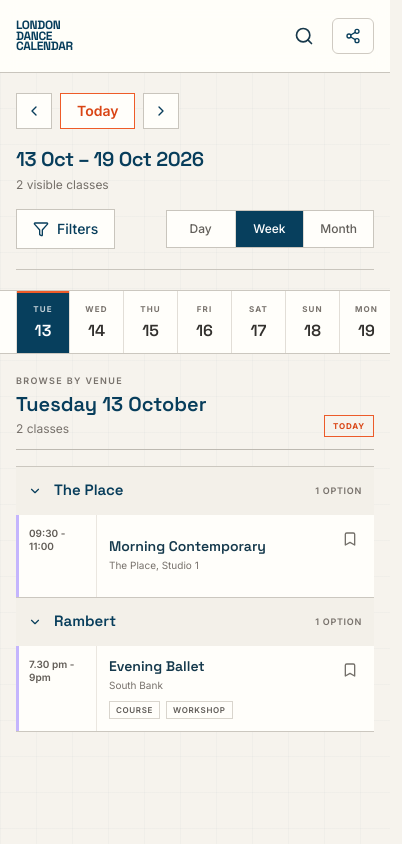
Test: CalendarNextPage › collapses venues in the mobile agenda
Click the button with aria-label "Collapse The Place" at x=89, y=490, box [16, 466, 374, 514]
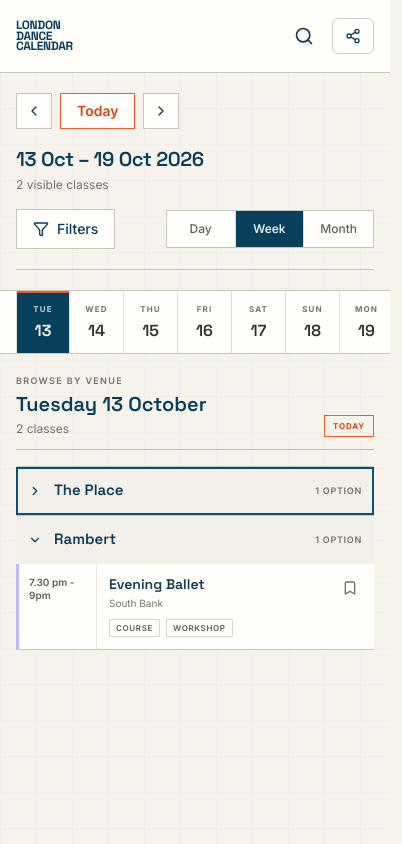
Check: the button with aria-label "Expand The Place" is collapsed, box [16, 466, 374, 514]
